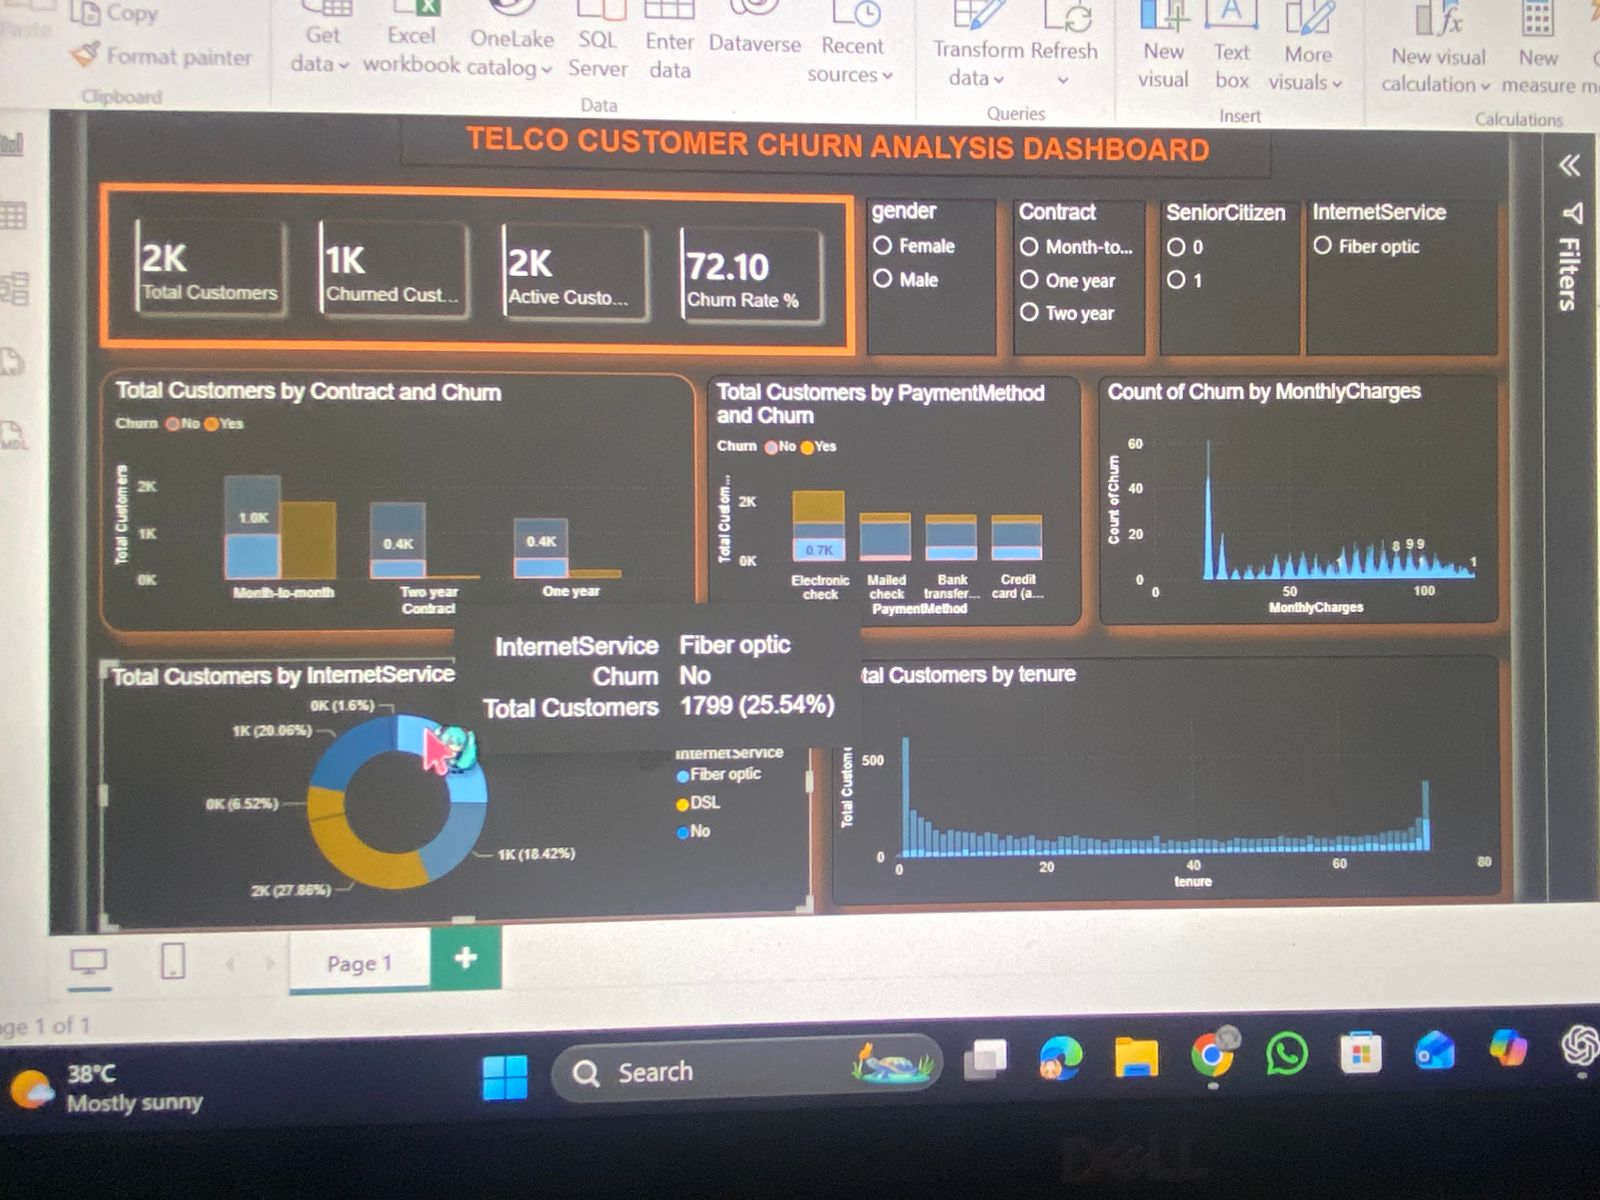

What the dashboard file says about the page in this screenshot:
{"tool":"powerbi","page":{"name":"Page 1","canvas":[1280,720],"ordinal":0},"visuals":[{"type":"cardVisual","fields":{"Data":["WA_Fn-UseC_-Telco-Customer-Churn.Total Customers","WA_Fn-UseC_-Telco-Customer-Churn.Churned Customers","WA_Fn-UseC_-Telco-Customer-Churn.Active Customers","WA_Fn-UseC_-Telco-Customer-Churn.Churn Rate %"]},"box":[12.7,65.2,656.9,143.2],"z":0},{"type":"clusteredColumnChart","fields":{"Category":["WA_Fn-UseC_-Telco-Customer-Churn.Contract"],"Y":["WA_Fn-UseC_-Telco-Customer-Churn.Total Customers"],"Series":["WA_Fn-UseC_-Telco-Customer-Churn.Churn"]},"box":[13.2,226.8,512.1,230.6],"z":1000},{"type":"donutChart","fields":{"Category":["WA_Fn-UseC_-Telco-Customer-Churn.InternetService"],"Series":["WA_Fn-UseC_-Telco-Customer-Churn.Churn"],"Y":["WA_Fn-UseC_-Telco-Customer-Churn.Total Customers"]},"box":[12.7,482,614,233.8],"z":2000},{"type":"columnChart","fields":{"Category":["WA_Fn-UseC_-Telco-Customer-Churn.PaymentMethod"],"Y":["WA_Fn-UseC_-Telco-Customer-Churn.Total Customers"],"Series":["WA_Fn-UseC_-Telco-Customer-Churn.Churn"]},"box":[534.8,226.8,343.9,230.6],"z":3000},{"type":"columnChart","fields":{"Y":["WA_Fn-UseC_-Telco-Customer-Churn.Total Customers"],"Category":["WA_Fn-UseC_-Telco-Customer-Churn.tenure"]},"box":[645.8,488.3,623.5,222.7],"z":4000},{"type":"columnChart","fields":{"Category":["WA_Fn-UseC_-Telco-Customer-Churn.MonthlyCharges"],"Y":["CountNonNull(WA_Fn-UseC_-Telco-Customer-Churn.Churn)"]},"box":[895.5,227.5,373.8,230.6],"z":5000},{"type":"listSlicer","fields":{"Values":["WA_Fn-UseC_-Telco-Customer-Churn.gender"]},"box":[680.8,66.8,119.3,141.6],"z":6000},{"type":"listSlicer","fields":{"Values":["WA_Fn-UseC_-Telco-Customer-Churn.Contract"]},"box":[816,66.8,122.5,141.6],"z":7000},{"type":"listSlicer","fields":{"Values":["WA_Fn-UseC_-Telco-Customer-Churn.SeniorCitizen"]},"box":[952.8,66.8,130.4,141.6],"z":8000},{"type":"listSlicer","fields":{"Values":["WA_Fn-UseC_-Telco-Customer-Churn.InternetService"]},"box":[1089.6,65.2,179.7,143.2],"z":9000},{"type":"textbox","box":[268.8,0,787.4,46.1],"z":9001}]}

Visuals, with their boxes in screenshot pixels (x1, y1, x2, y2):
cardVisual - WA_Fn-UseC_-Telco-Customer-Churn.Total Customers x WA_Fn-UseC_-Telco-Customer-Churn.Churned Customers: <box>45,201,855,378</box>
clusteredColumnChart - WA_Fn-UseC_-Telco-Customer-Churn.Contract x WA_Fn-UseC_-Telco-Customer-Churn.Total Customers: <box>45,400,677,685</box>
donutChart - WA_Fn-UseC_-Telco-Customer-Churn.InternetService x WA_Fn-UseC_-Telco-Customer-Churn.Churn: <box>45,715,802,1003</box>
columnChart - WA_Fn-UseC_-Telco-Customer-Churn.PaymentMethod x WA_Fn-UseC_-Telco-Customer-Churn.Total Customers: <box>688,400,1112,685</box>
columnChart - WA_Fn-UseC_-Telco-Customer-Churn.Total Customers x WA_Fn-UseC_-Telco-Customer-Churn.tenure: <box>825,723,1594,997</box>
columnChart - WA_Fn-UseC_-Telco-Customer-Churn.MonthlyCharges x CountNonNull(WA_Fn-UseC_-Telco-Customer-Churn.Churn): <box>1133,401,1594,686</box>
listSlicer - WA_Fn-UseC_-Telco-Customer-Churn.gender: <box>868,203,1015,378</box>
listSlicer - WA_Fn-UseC_-Telco-Customer-Churn.Contract: <box>1035,203,1186,378</box>
listSlicer - WA_Fn-UseC_-Telco-Customer-Churn.SeniorCitizen: <box>1204,203,1364,378</box>
listSlicer - WA_Fn-UseC_-Telco-Customer-Churn.InternetService: <box>1372,201,1594,378</box>
textbox: <box>361,121,1331,178</box>
